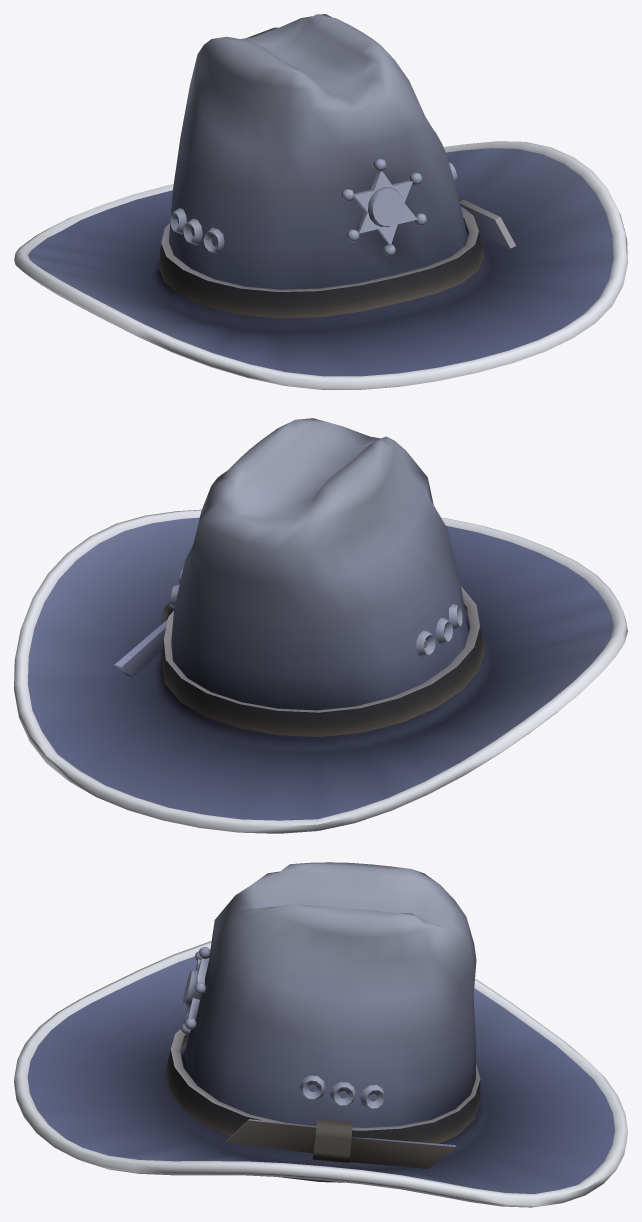
The model's file is Cap_Sheriff_Hat.gltf.
3 views of the same model, one above another, from view 1: azimuth 30°, elevation 25°; view 2: azimuth 150°, elevation 25°; view 3: azimuth 270°, elevation 25° (orthographic). The views are drawn at different scales.
Visible parts, largest first — view 1: Cap_Sheriff_Hat; view 2: Cap_Sheriff_Hat; view 3: Cap_Sheriff_Hat.
Part boxes in pixels (x1,y1,x2,y2): Cap_Sheriff_Hat: (14, 14, 627, 389); Cap_Sheriff_Hat: (14, 418, 627, 833); Cap_Sheriff_Hat: (14, 862, 627, 1207).
Bounding box in the file's own units: 1.47 × 0.713 × 1.55.
Materials: 3 (3 with a texture image).
